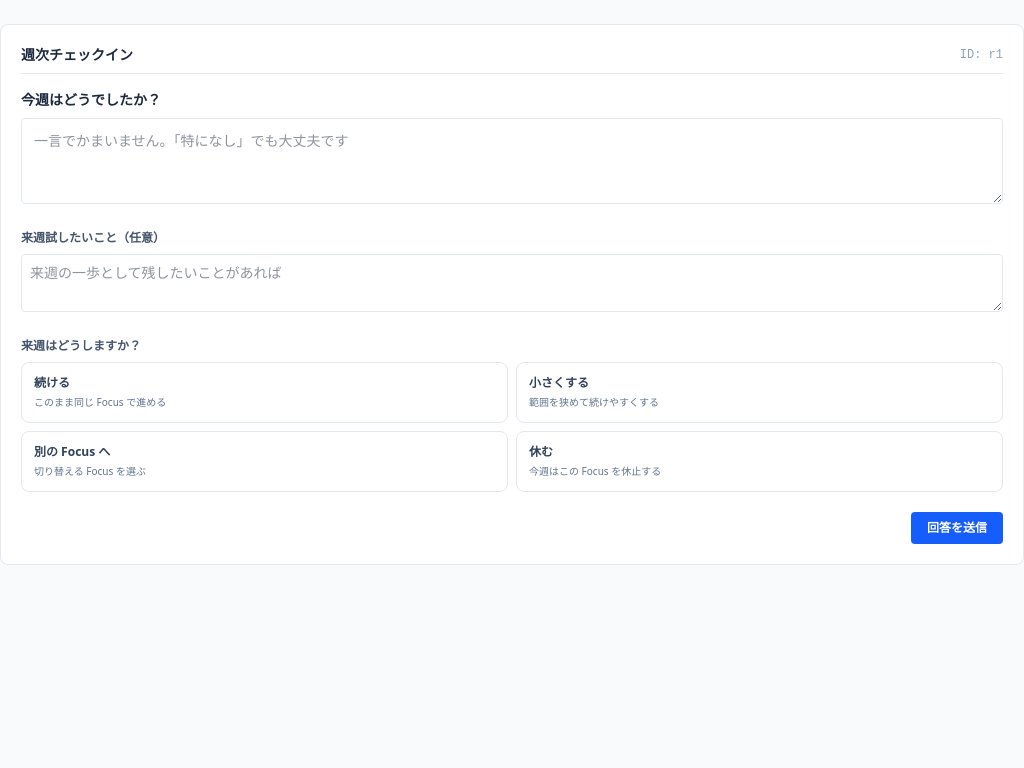
WeeklyCheckinCard › requires next step text when narrowing
Step 1. Type "忙しかった" into the text box named "今週の振り返り" → (512, 161), box [21,118,1003,204]
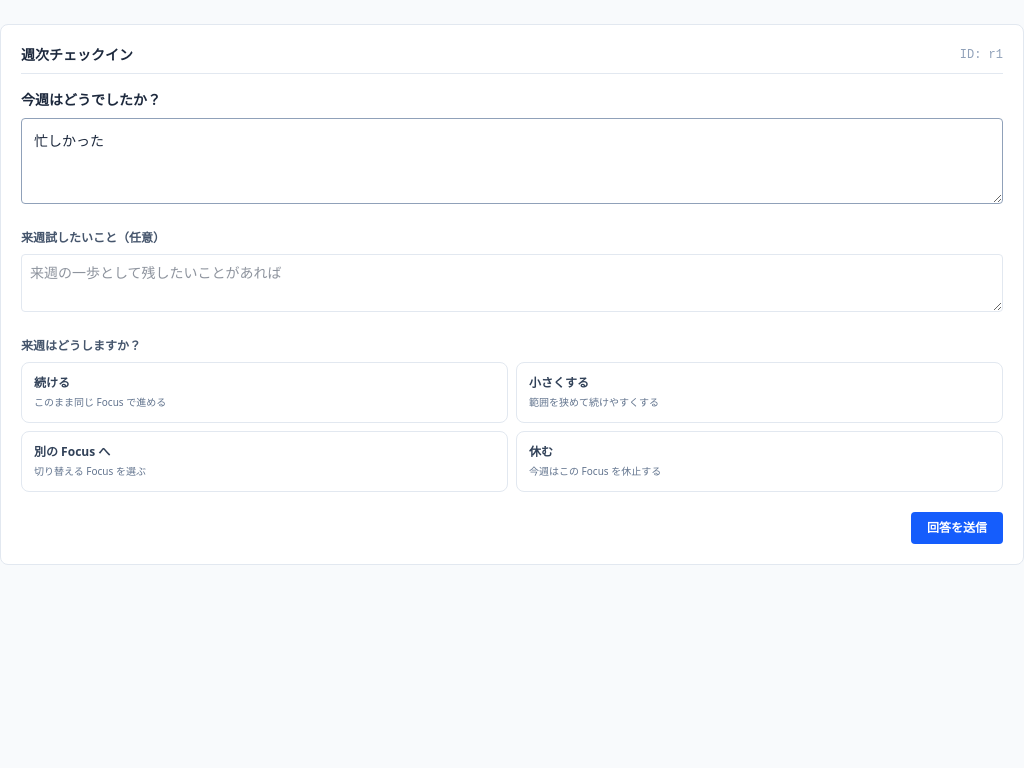
Step 2. Click the button "小さくする 範囲を狭めて続けやすくする" → (559, 382), box [516,362,1003,423]
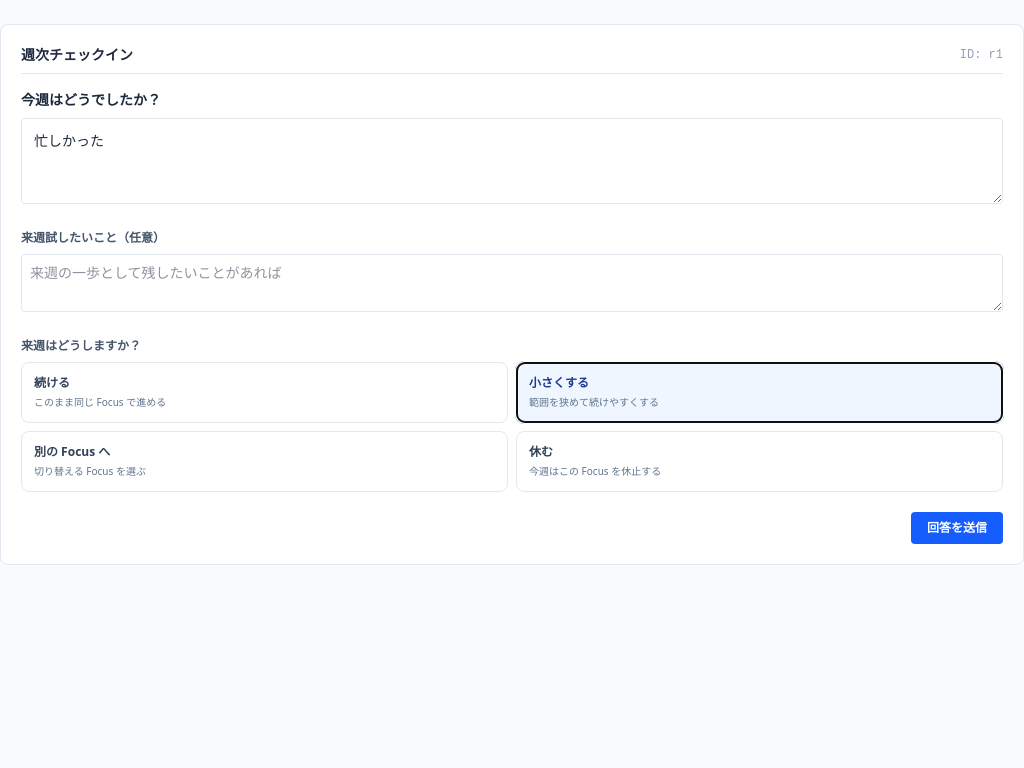
Step 3. Click the button "回答を送信" → (957, 528), box [911,512,1003,544]
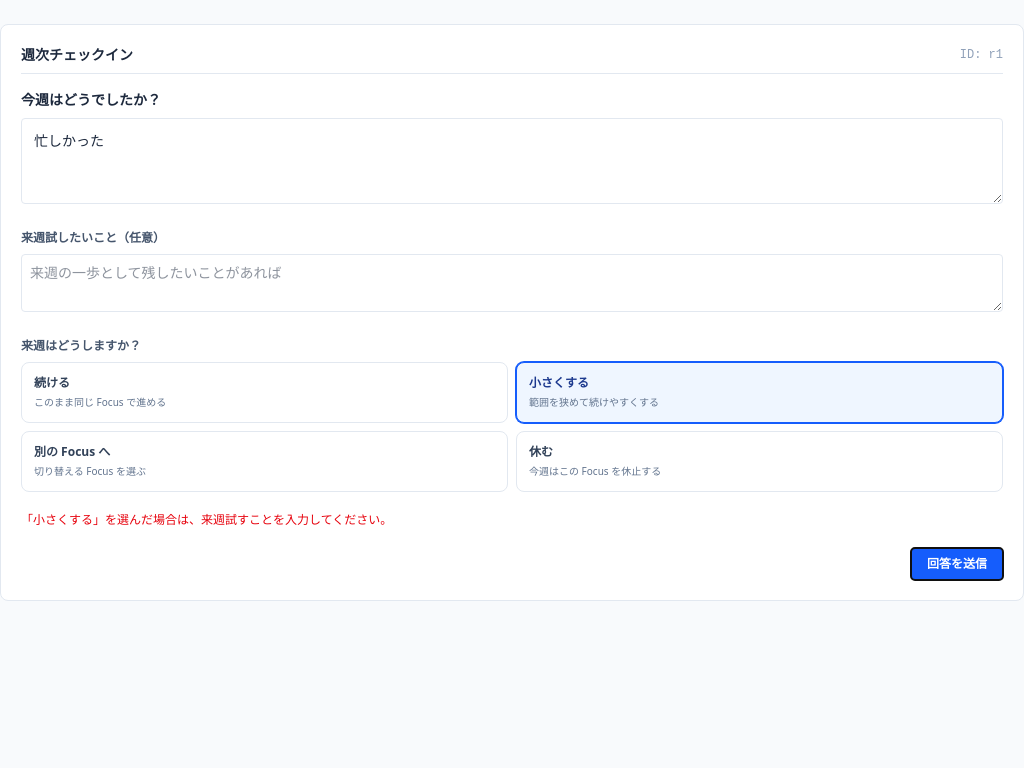
Check: the text "「小さくする」を選んだ場合は、来週試すことを入力してください。" is shown, box [21,511,392,528]
